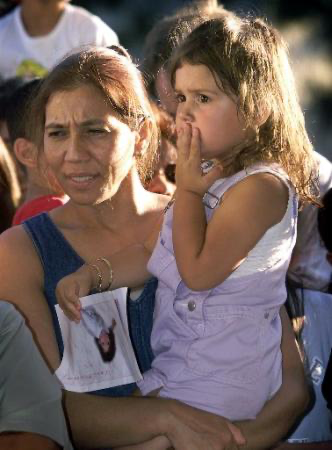Face: (39, 108, 137, 205), (169, 62, 252, 156)
